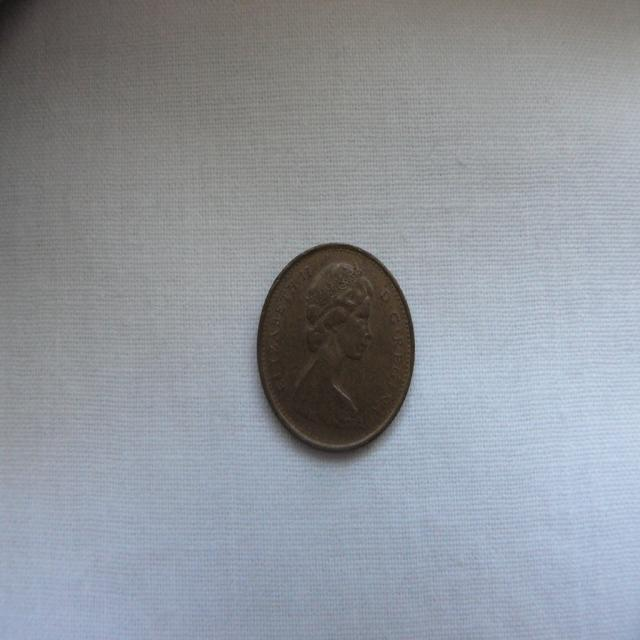Coin: (256, 245, 416, 454)
